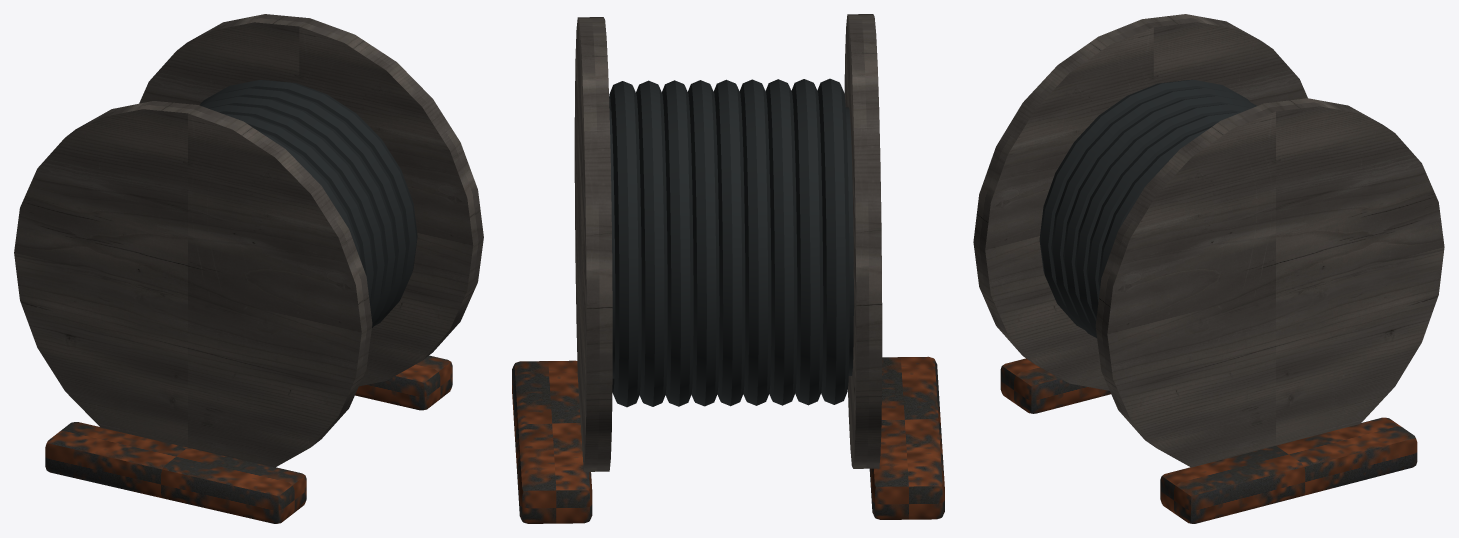
File: SM_PortableCableReel_9a41080fac.fbx
3 renders of one model, left to right at view 1: azimuth 30°, elevation 25°; view 2: azimuth 150°, elevation 25°; view 3: azimuth 270°, elevation 25°, orthographic. The views are drawn at different scales.
Parts seen in each view (by area): view 1: SM_PortableCableReel_9a41080fac; view 2: SM_PortableCableReel_9a41080fac; view 3: SM_PortableCableReel_9a41080fac.
Boxes of the visible parts, x1,y1,x2,y2 form: SM_PortableCableReel_9a41080fac: [14, 14, 483, 523]; SM_PortableCableReel_9a41080fac: [512, 14, 944, 523]; SM_PortableCableReel_9a41080fac: [973, 14, 1444, 523].
Size of what is drawn, in the model's own units: 49.99 by 52.41 by 45.
3 materials, 2 textured.
